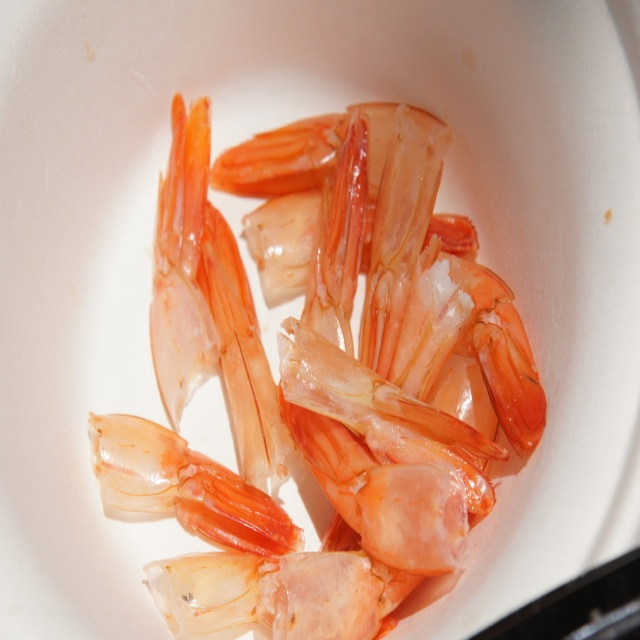Shrimp: (86, 91, 548, 639)
